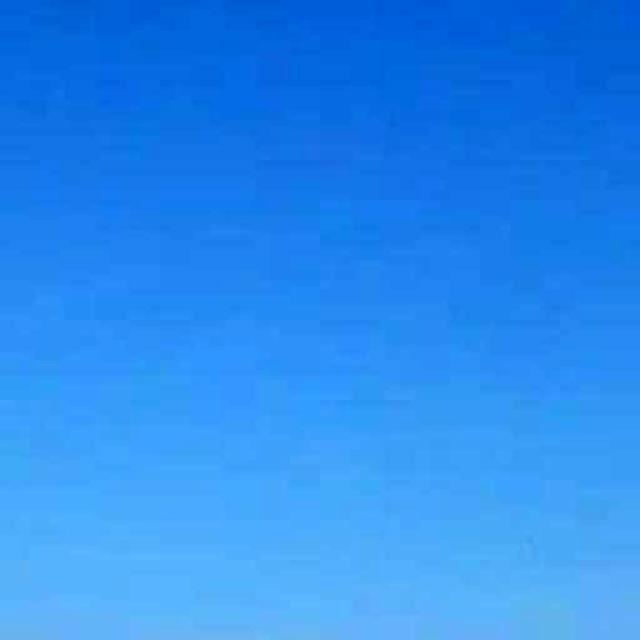drone: (496, 502, 556, 580)
